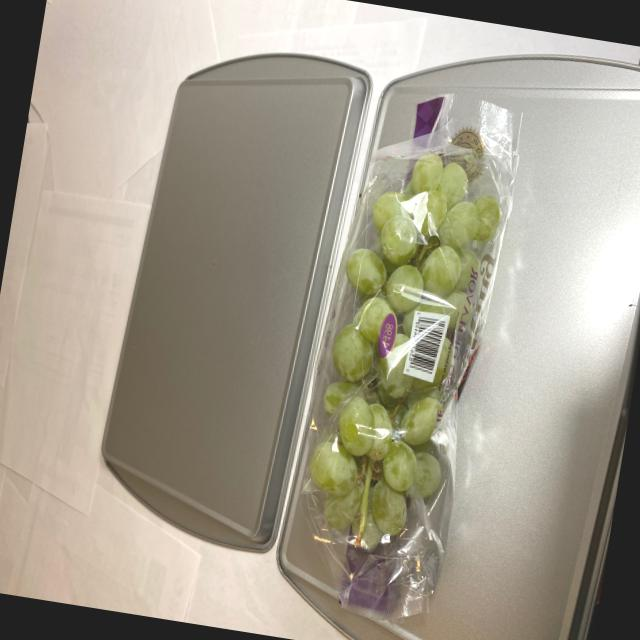grapes: (293, 98, 512, 580)
